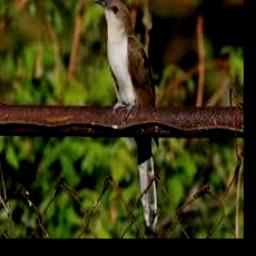Cuckoo: (95, 0, 158, 229)
